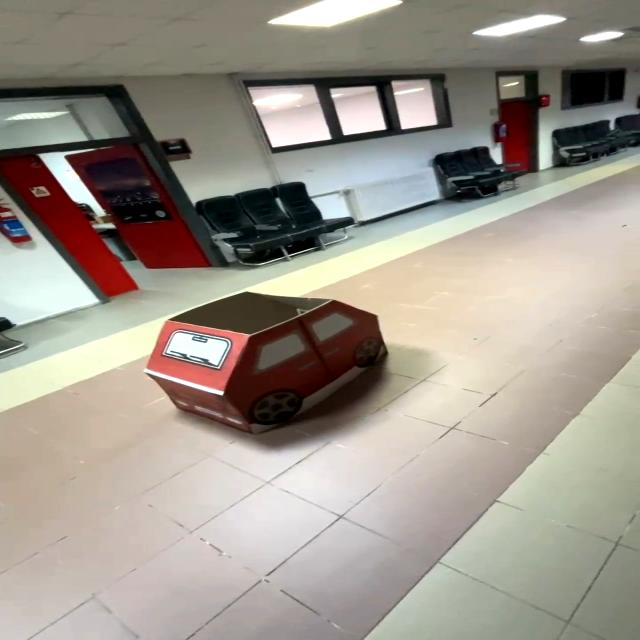red_car: (137, 272, 433, 455)
